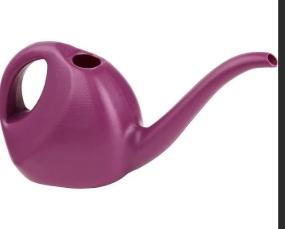ARROSOIR: (0, 39, 279, 197)
